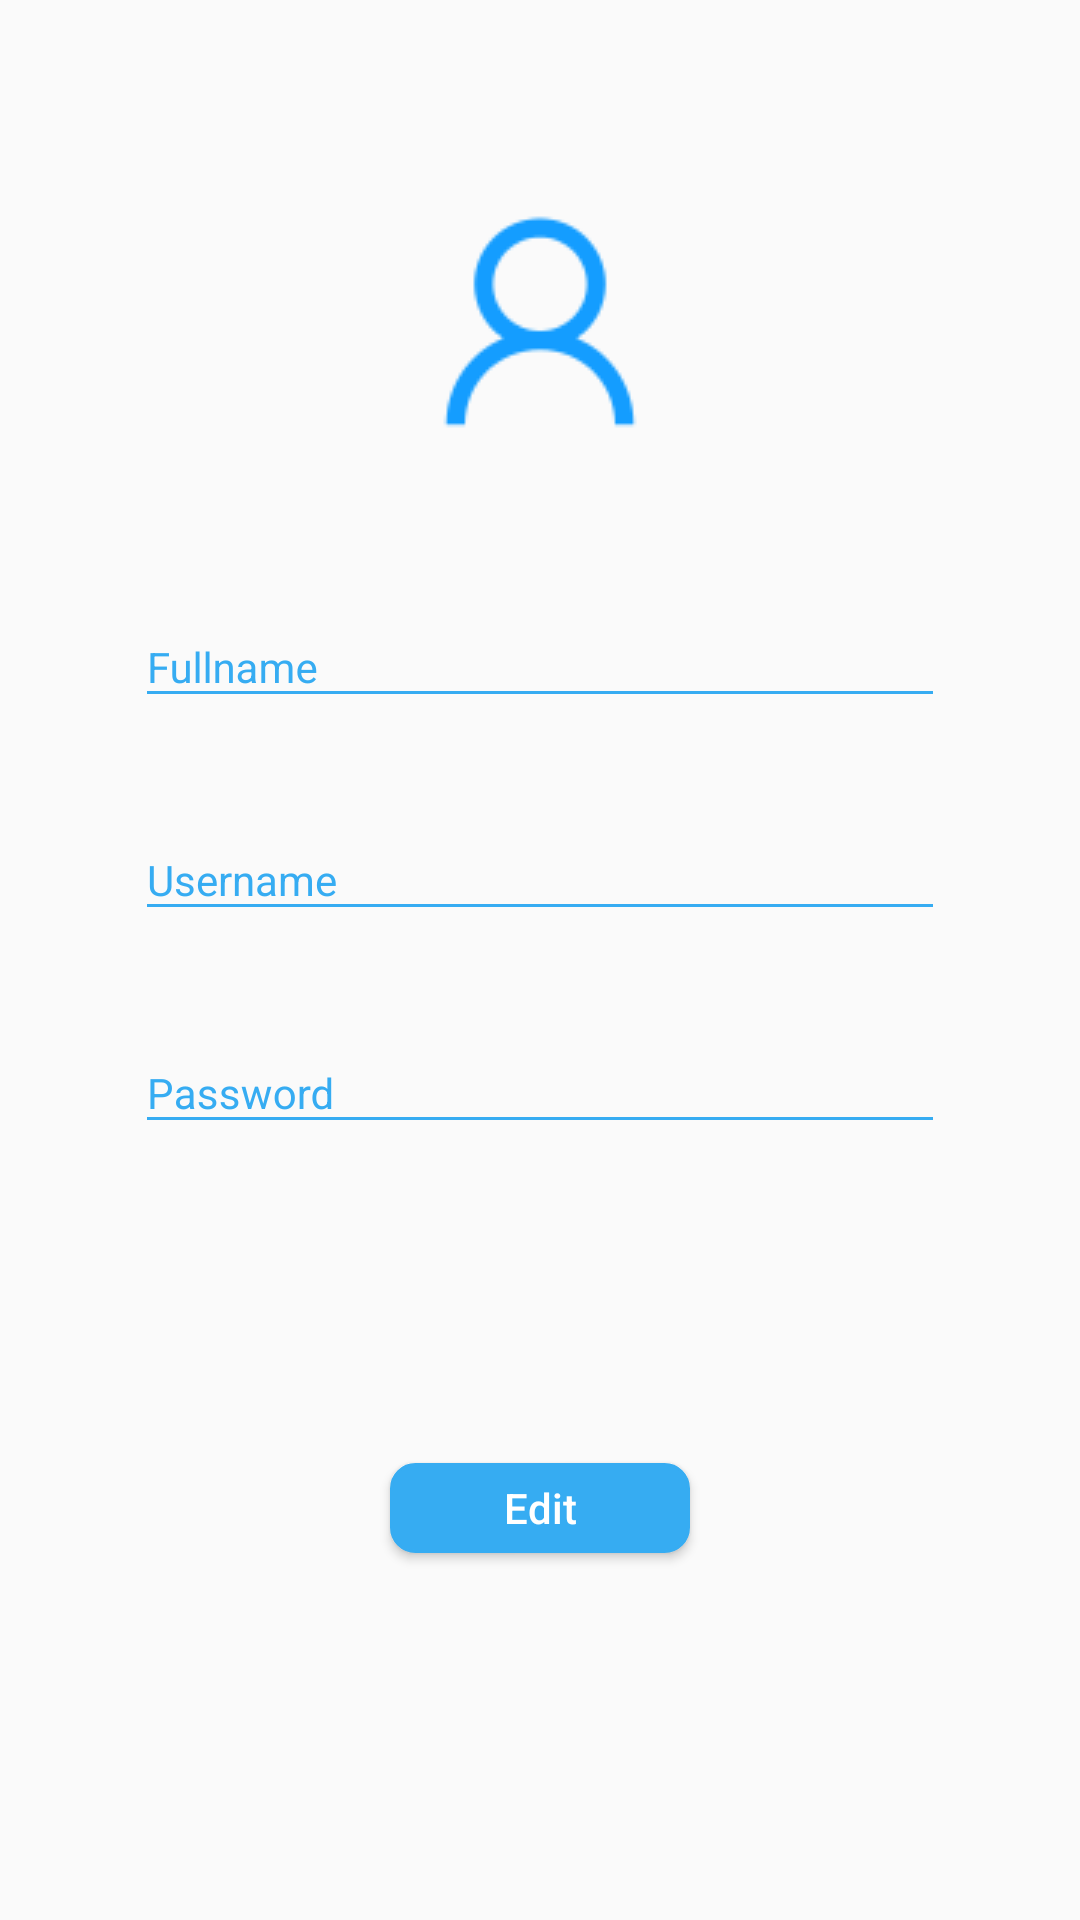

Where icons sit on this 1080*1920 app screen, as (x1, y1, x2, y2):
profile click: (444, 216, 636, 427)
